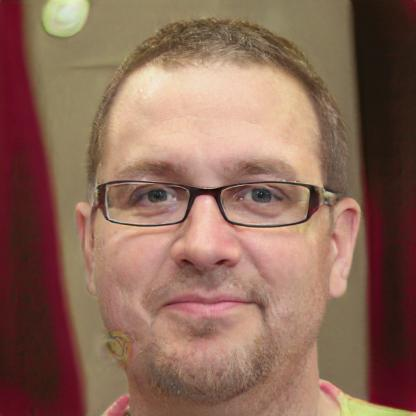glasses: (90, 172, 324, 231)
